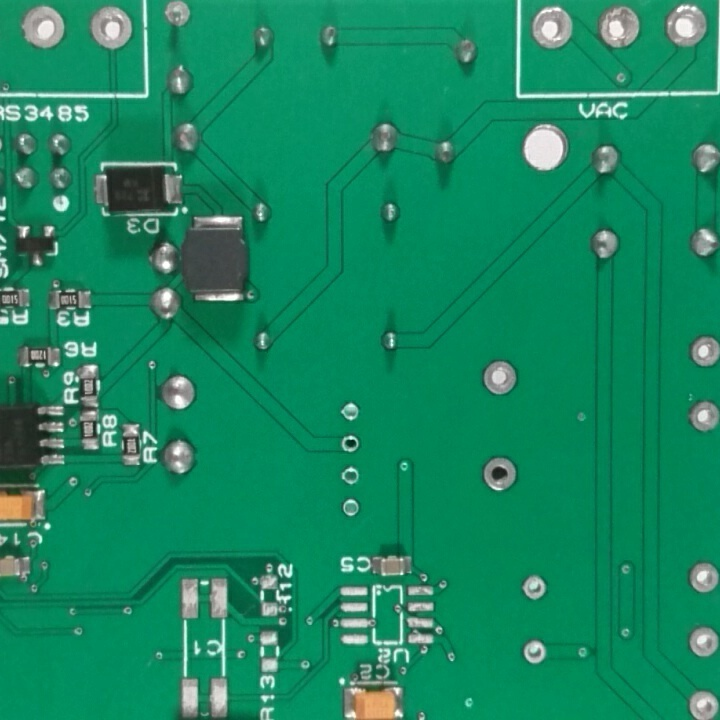F: (87, 5, 136, 58), (526, 4, 579, 51), (18, 6, 70, 52), (597, 6, 644, 52), (667, 6, 710, 49), (477, 360, 523, 400), (481, 456, 521, 496), (683, 397, 720, 434), (685, 623, 720, 661), (683, 686, 720, 720), (684, 558, 719, 592), (687, 333, 720, 368), (516, 573, 552, 605), (517, 639, 550, 672), (161, 1, 196, 31), (336, 402, 364, 428), (339, 435, 362, 457), (339, 498, 361, 521), (340, 467, 360, 491)
